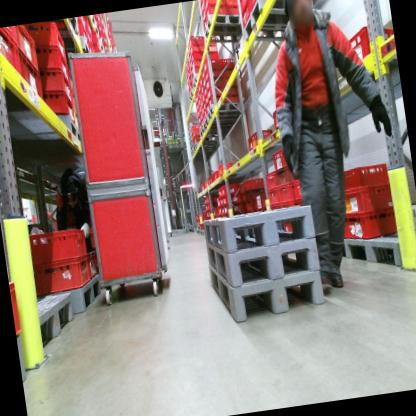pallet: (207, 246, 327, 323), (206, 222, 323, 296), (201, 198, 318, 264), (26, 289, 80, 360), (239, 0, 311, 50), (343, 232, 412, 280), (30, 108, 83, 153), (62, 271, 106, 319), (200, 8, 249, 44), (205, 97, 245, 125), (202, 112, 244, 131), (16, 334, 28, 379), (198, 123, 226, 139), (191, 71, 204, 96), (193, 138, 216, 152), (186, 120, 199, 131), (188, 89, 195, 103), (201, 229, 206, 237), (189, 139, 194, 146), (187, 129, 192, 136), (189, 144, 193, 151), (188, 135, 192, 142), (191, 147, 194, 155), (197, 224, 200, 231), (198, 230, 201, 235)
small_load_carrier: (338, 18, 398, 73), (28, 248, 91, 295), (26, 222, 87, 266), (338, 177, 396, 222), (339, 204, 400, 242), (336, 155, 392, 195), (17, 43, 44, 105), (34, 37, 69, 83), (31, 20, 66, 63), (43, 86, 77, 126), (0, 26, 24, 81), (16, 24, 41, 72), (40, 69, 69, 100), (244, 123, 274, 151), (248, 0, 287, 18), (9, 281, 21, 333), (272, 163, 296, 188), (277, 179, 300, 205), (269, 147, 292, 171), (203, 0, 227, 21), (279, 198, 305, 217), (202, 55, 223, 76), (202, 64, 223, 85), (204, 73, 225, 94), (85, 249, 99, 279), (0, 27, 19, 49), (75, 21, 90, 48), (268, 105, 284, 130), (217, 160, 238, 179), (293, 174, 307, 202), (243, 186, 266, 202), (245, 196, 268, 212), (206, 82, 226, 100), (239, 0, 252, 26), (203, 0, 226, 14), (264, 169, 278, 191), (282, 217, 298, 236), (188, 33, 204, 51), (208, 93, 227, 108), (221, 192, 242, 205), (219, 182, 240, 195), (242, 177, 263, 190), (223, 201, 243, 214), (225, 2, 240, 19), (225, 90, 243, 104), (219, 55, 237, 69), (189, 48, 205, 63), (266, 187, 280, 204), (295, 197, 312, 210), (224, 82, 242, 94), (222, 73, 240, 84), (75, 16, 86, 34), (189, 42, 204, 55), (192, 133, 208, 145), (269, 202, 282, 216), (191, 54, 203, 68), (205, 49, 219, 61), (202, 33, 216, 44), (221, 67, 238, 76), (192, 64, 204, 76), (92, 33, 100, 50), (205, 42, 217, 53), (239, 0, 249, 13), (212, 168, 221, 182), (92, 40, 101, 54), (85, 19, 92, 36), (200, 8, 207, 24), (207, 201, 218, 211), (203, 176, 211, 189), (190, 128, 199, 139), (205, 193, 216, 202), (201, 16, 208, 30), (198, 0, 205, 14), (190, 125, 199, 135), (201, 75, 207, 89), (208, 174, 215, 186), (241, 192, 249, 202), (225, 0, 238, 6), (200, 68, 206, 81), (202, 84, 208, 97), (205, 99, 211, 112), (203, 92, 209, 104), (212, 205, 218, 217), (207, 207, 213, 217), (217, 185, 222, 197), (218, 196, 223, 207), (239, 182, 244, 193), (200, 182, 205, 192), (215, 196, 220, 206), (219, 204, 224, 214), (202, 195, 207, 204), (217, 205, 221, 215), (195, 212, 200, 219), (196, 219, 201, 225), (205, 204, 208, 211), (200, 224, 204, 228), (206, 211, 209, 216)
